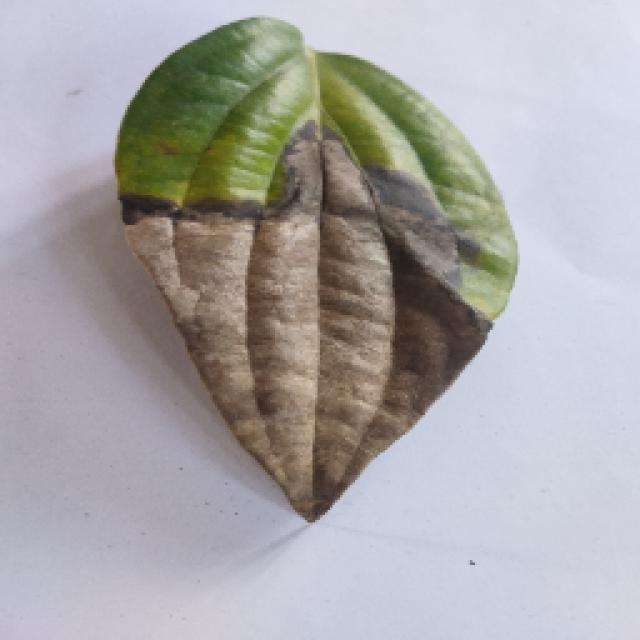footrot: (95, 15, 530, 527)
